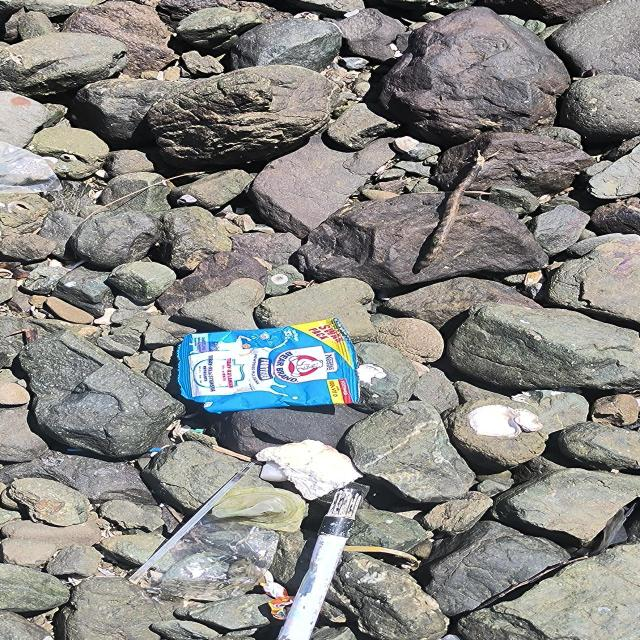plastic_waste: (178, 319, 362, 415)
